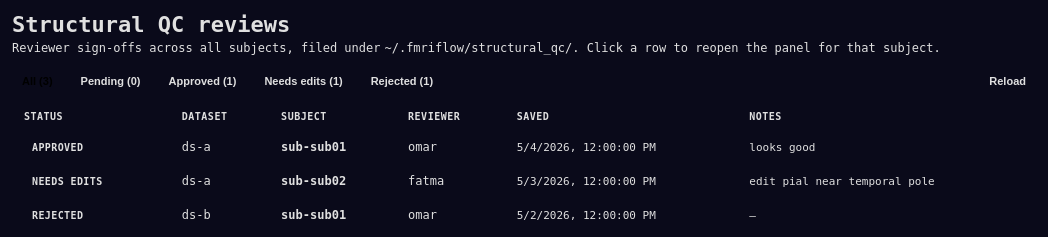
Test: <QCReviews /> › shows an empty-state row when filtered to a status with zero hits
Expected: the text "sub-sub02" is shown, x1=269 y1=164 x2=396 y2=198
Click the button "Pending (0)" at point(111, 81), box x1=71 y1=71 x2=150 y2=91
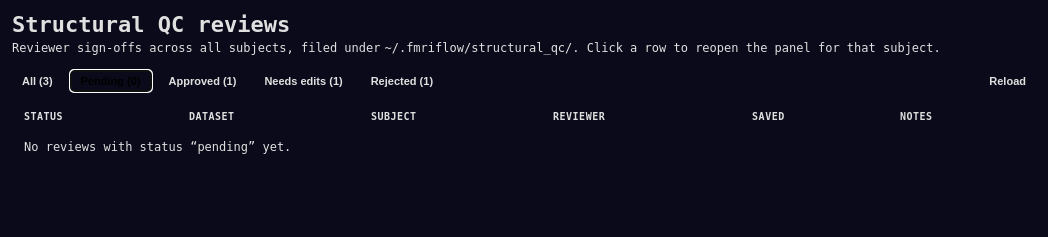
Expected: the text "No reviews with status “pending” yet." is shown, x1=12 y1=130 x2=1036 y2=164
